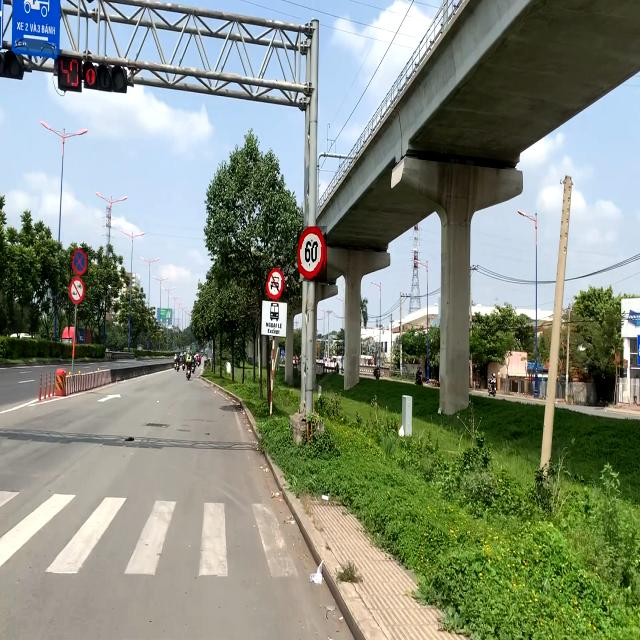18: (298, 226, 327, 282)
20: (70, 248, 88, 276)
bien_hieu_lenh: (266, 268, 285, 301)
